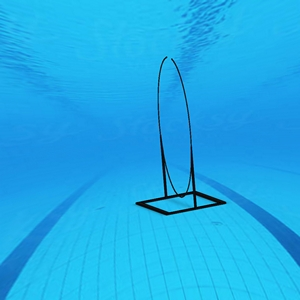circle: (134, 54, 230, 222)
